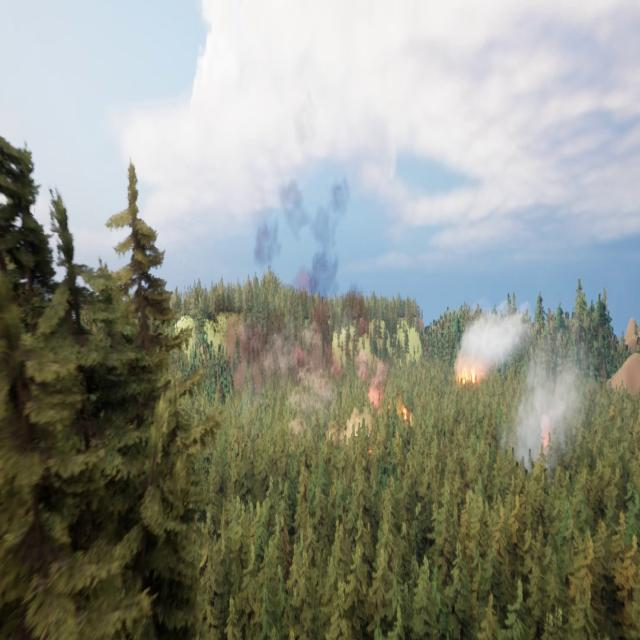fire: (458, 358, 483, 383)
smoke: (235, 176, 396, 442), (505, 349, 591, 472), (456, 301, 536, 395)
